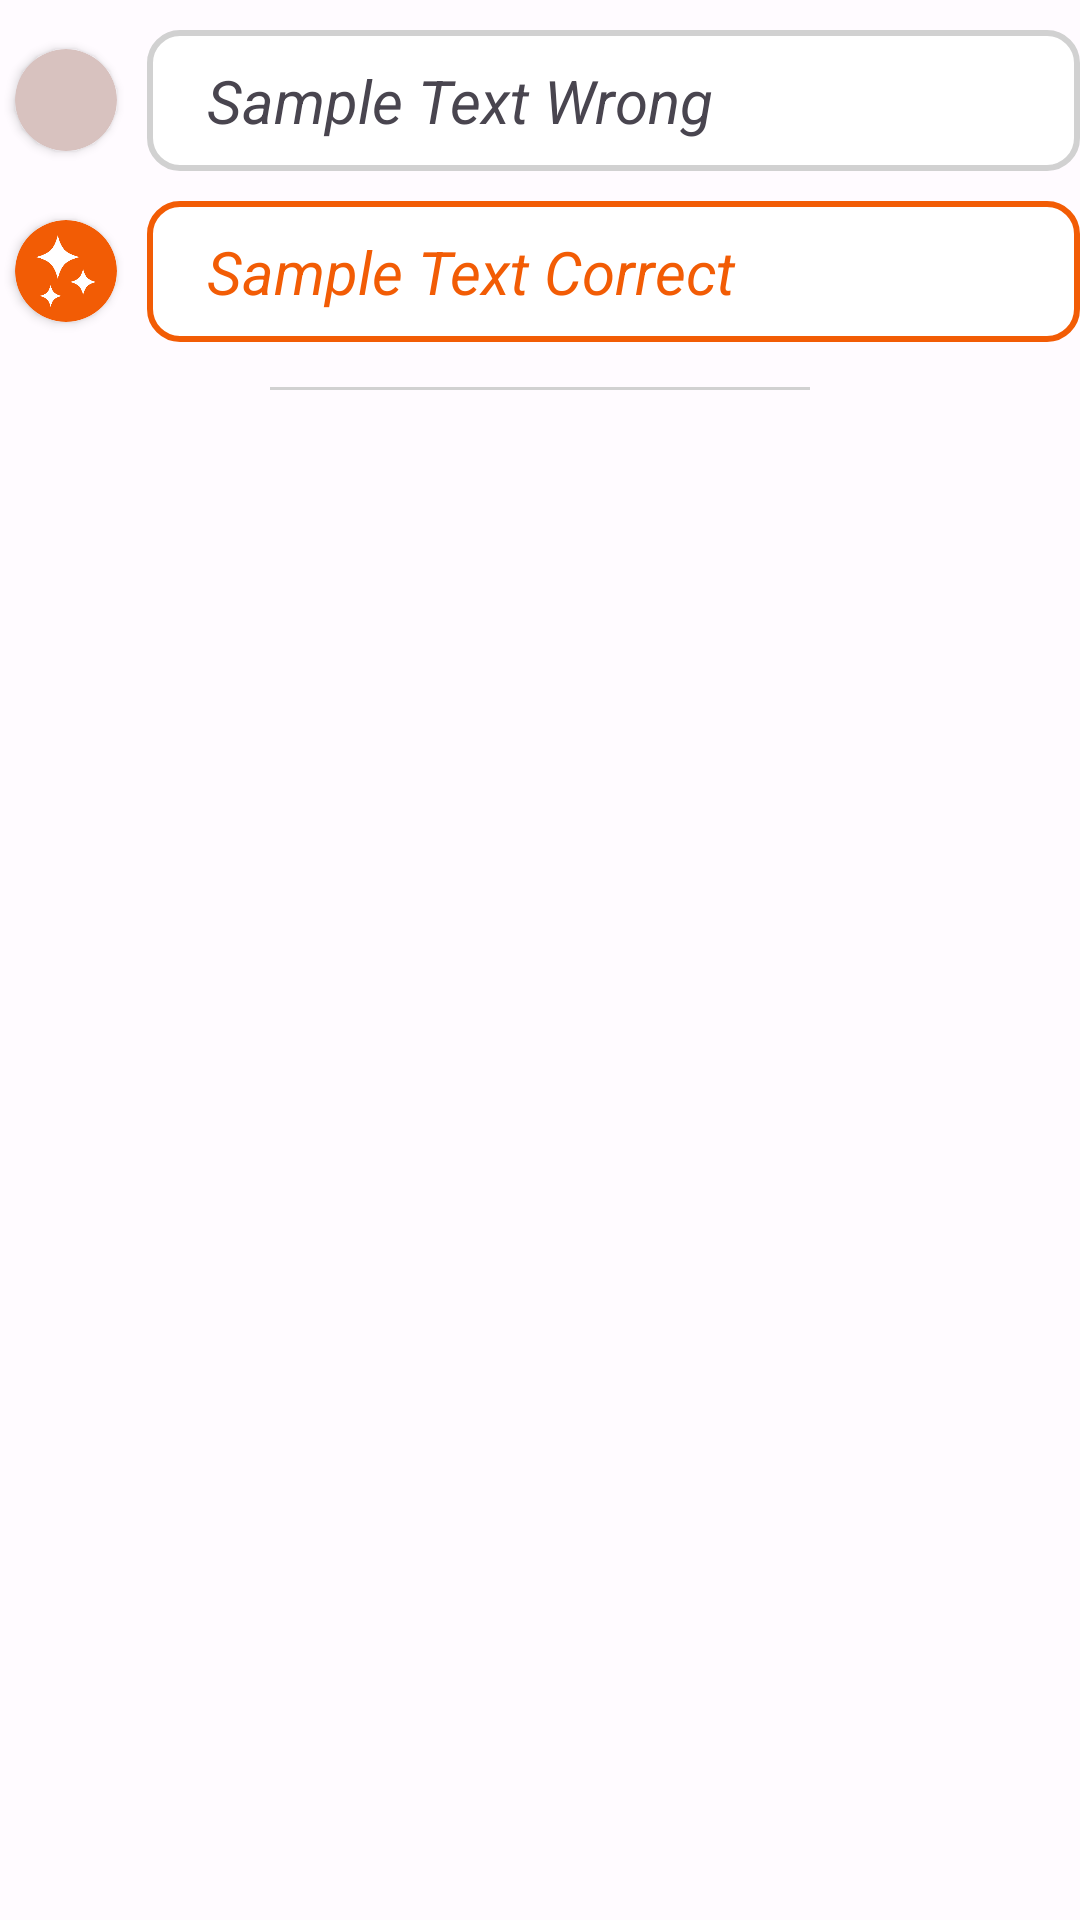

Named icons in this screenshot (1080 × 1920) and their centers, [x,y]:
shine: [66,271]
